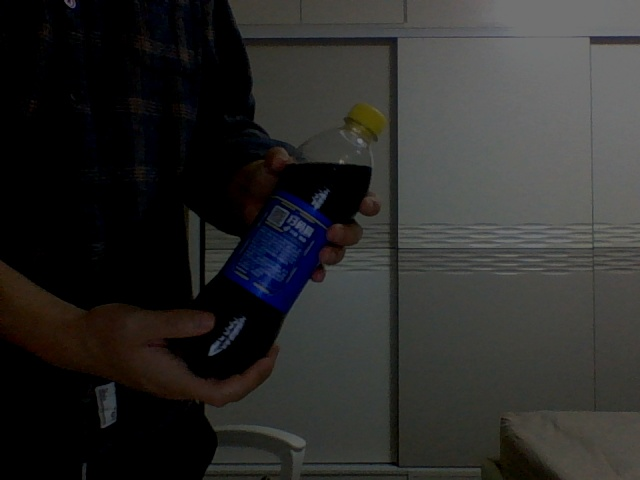Cola: (179, 102, 386, 379)
